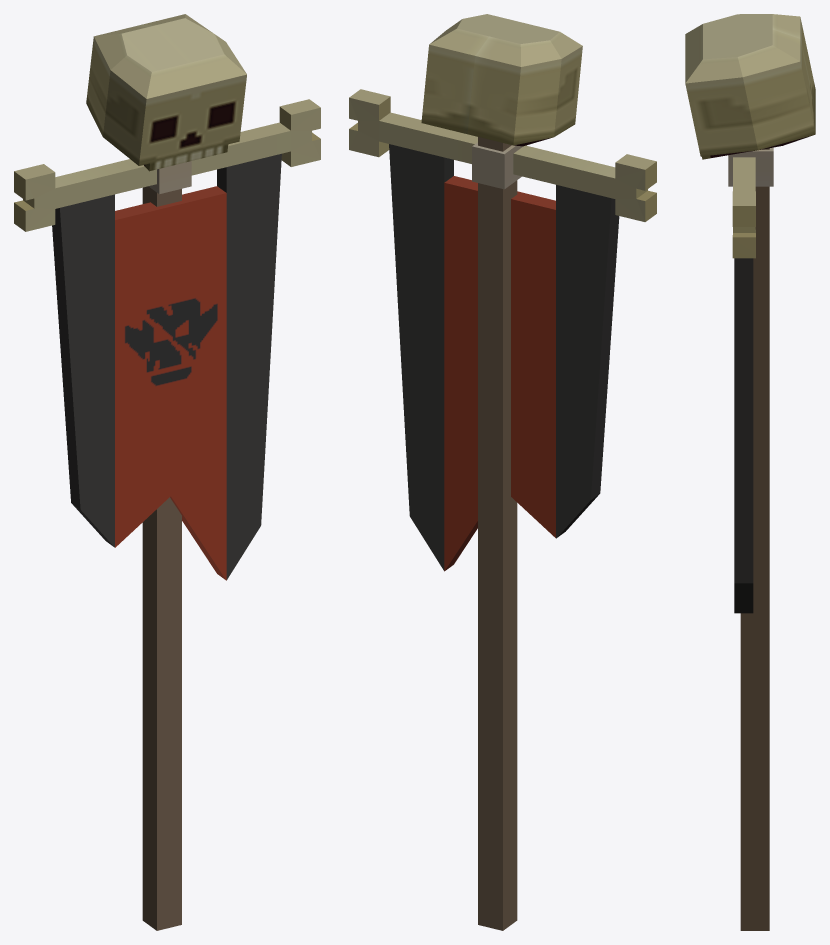
The model's file is Flag_07.gltf.
3 renders of one model, left to right at view 1: azimuth 30°, elevation 25°; view 2: azimuth 150°, elevation 25°; view 3: azimuth 270°, elevation 25°, orthographic.
Parts seen in each view (by area): view 1: SF_Prop_Flag_07; view 2: SF_Prop_Flag_07; view 3: SF_Prop_Flag_07.
Part boxes in pixels (x1=…): SF_Prop_Flag_07: x1=14, y1=14, x2=320, y2=930; SF_Prop_Flag_07: x1=349, y1=14, x2=656, y2=930; SF_Prop_Flag_07: x1=685, y1=14, x2=815, y2=930.
Bounding box in the file's own units: 0.0157 × 0.0452 × 0.00596.
1 material, 1 textured.
